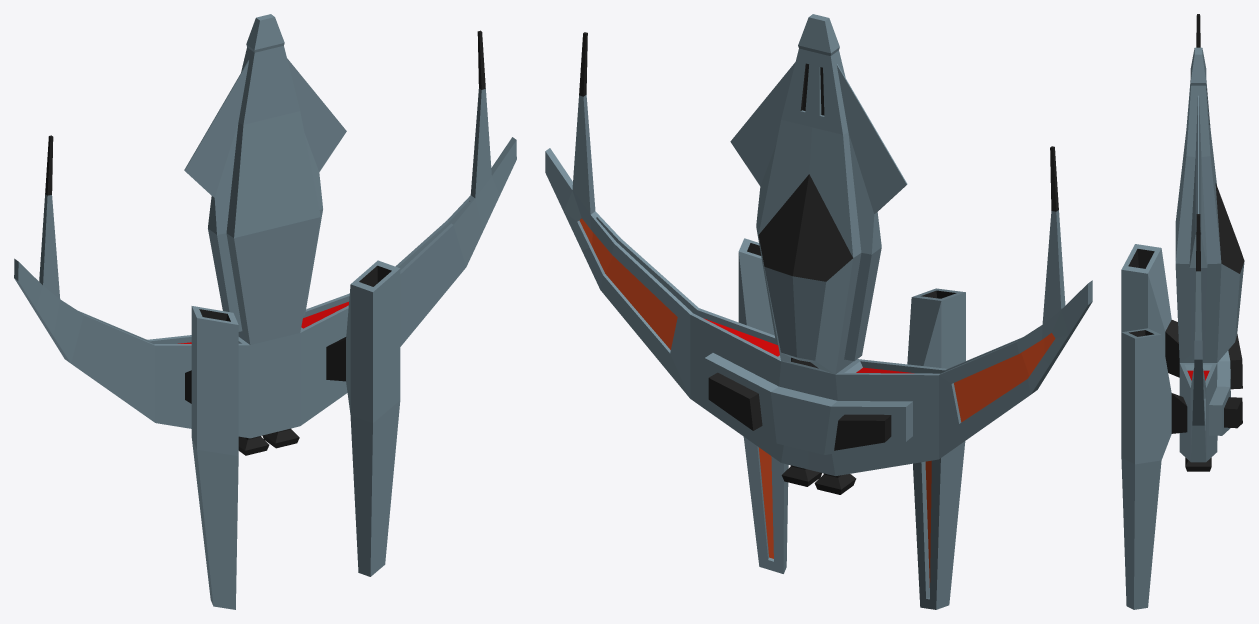
Rendered from Centauri.fbx.
3 views of the same model, side by side, from view 1: azimuth 30°, elevation 25°; view 2: azimuth 150°, elevation 25°; view 3: azimuth 270°, elevation 25° (orthographic). The views are drawn at different scales.
Parts seen in each view (by area): view 1: Centauri; view 2: Centauri; view 3: Centauri.
Part boxes in pixels (bbox=[...]): Centauri: bbox=[14, 14, 516, 609]; Centauri: bbox=[545, 14, 1092, 609]; Centauri: bbox=[1121, 14, 1244, 609].
Bounding box in the file's own units: 1947 × 2048 × 436.
